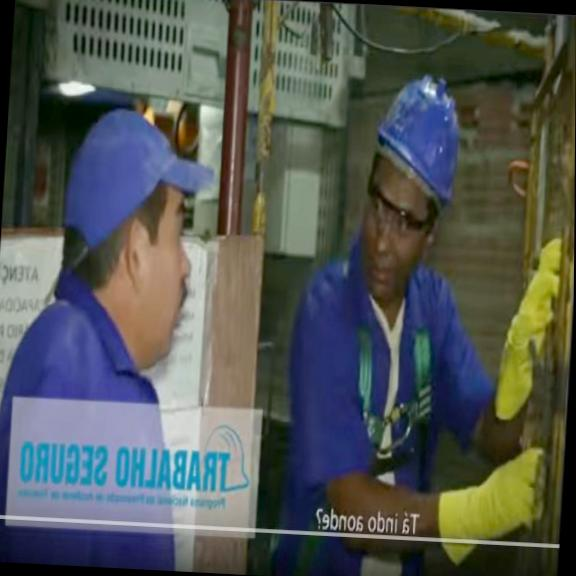no_safety_vest: (273, 227, 472, 576), (0, 263, 196, 571)
